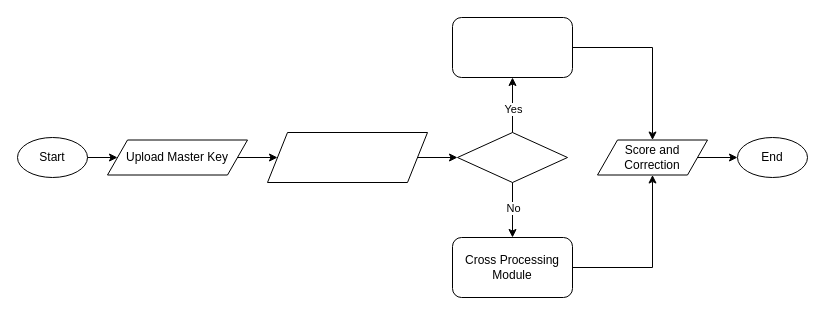
Image size: 825x315. Some labels were removed from this diagram. The shapes that lost their labels are listed below. From the top down, each one's centre as x and y in pixels, then its label:
At (512,47): "Circles Processing Module".
At (347,157): "Upload Student Answer".
At (512,157): "Circle".
